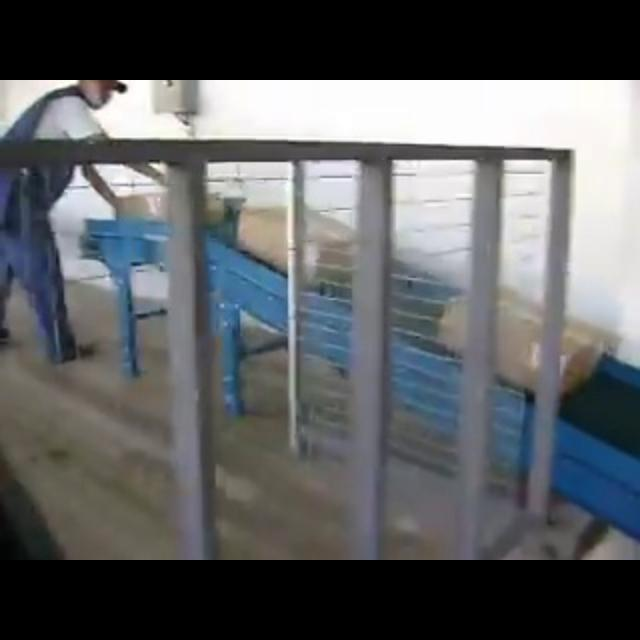Box: (432, 282, 620, 406), (234, 200, 368, 292), (111, 186, 227, 238)
